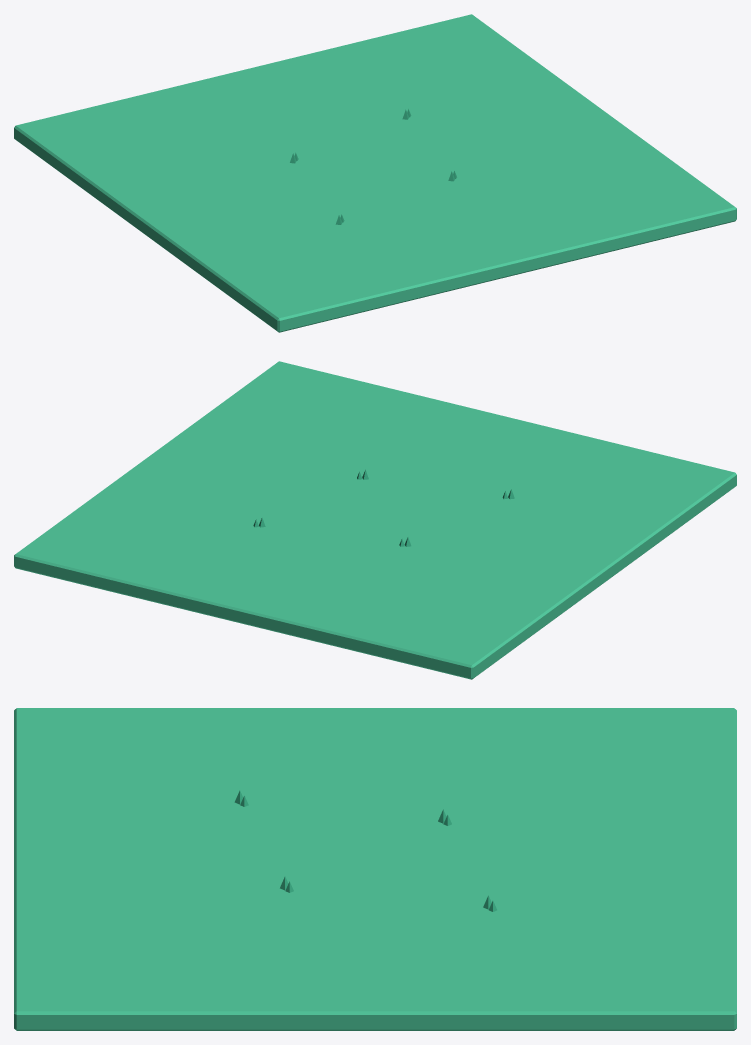
The model's file is lot_grass.glb.
3 renders of one model, top to bottom at view 1: azimuth 30°, elevation 25°; view 2: azimuth 150°, elevation 25°; view 3: azimuth 270°, elevation 25°, orthographic. The views are drawn at different scales.
Visible parts, largest first — view 1: lot_grass; view 2: lot_grass; view 3: lot_grass.
Part boxes in pixels (x1,y1,x2,y2): lot_grass: (14, 14, 736, 332); lot_grass: (14, 361, 736, 679); lot_grass: (14, 708, 736, 1030).
Bounding box in the file's own units: 16 × 0.78 × 16.
